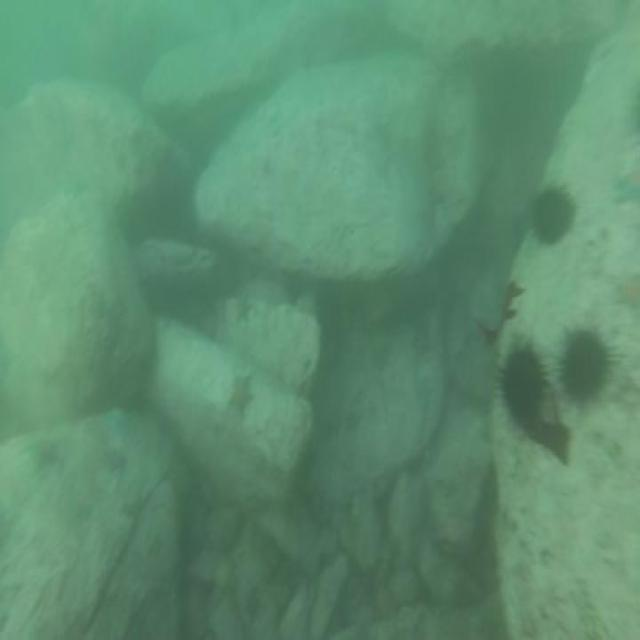echinus: (496, 334, 548, 428), (558, 326, 612, 404), (526, 176, 578, 252)
starfish: (19, 430, 63, 474), (225, 370, 259, 419), (610, 166, 640, 212), (230, 289, 255, 327)
